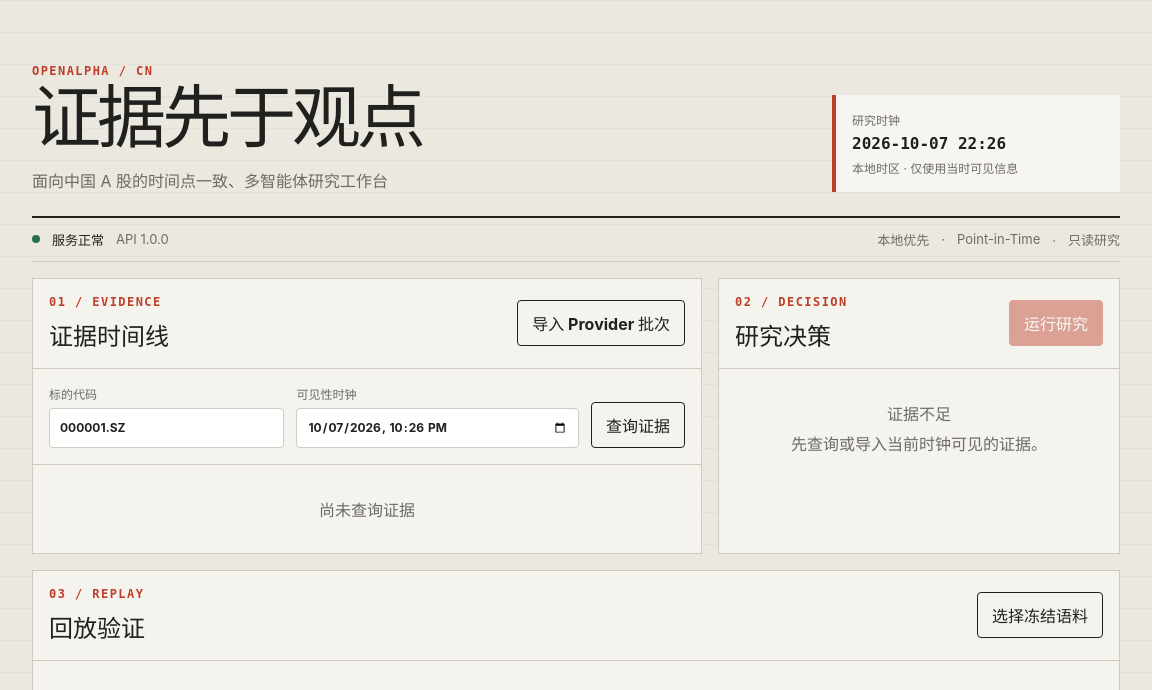
Test case: OpenAlpha workbench › marks the evidence list stale once the query form no longer matches it
Expected: the text "服务正常" is shown, [52,230,104,249]
Click the button "查询证据" at (638, 425), box [591,402,685,448]
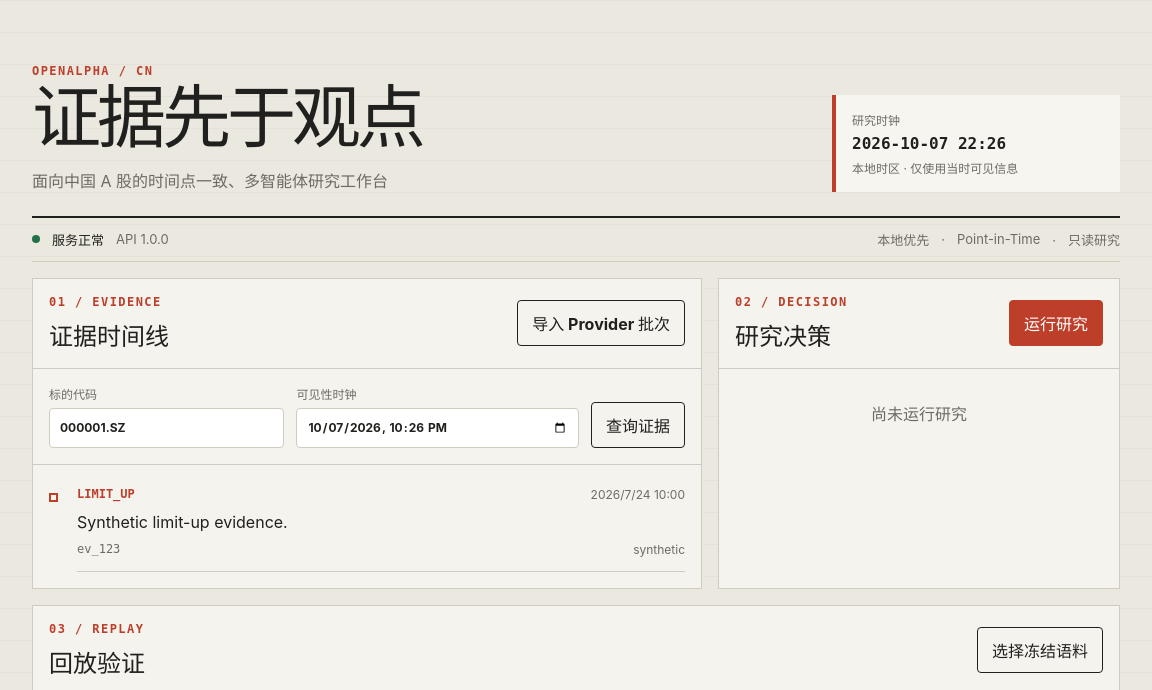
Expected: the text "Synthetic limit-up evidence." is shown, [77,512,288,532]
Type "600519.SH" into the field with placeholder "000001.SZ" at (167, 428), box [49,408,284,448]
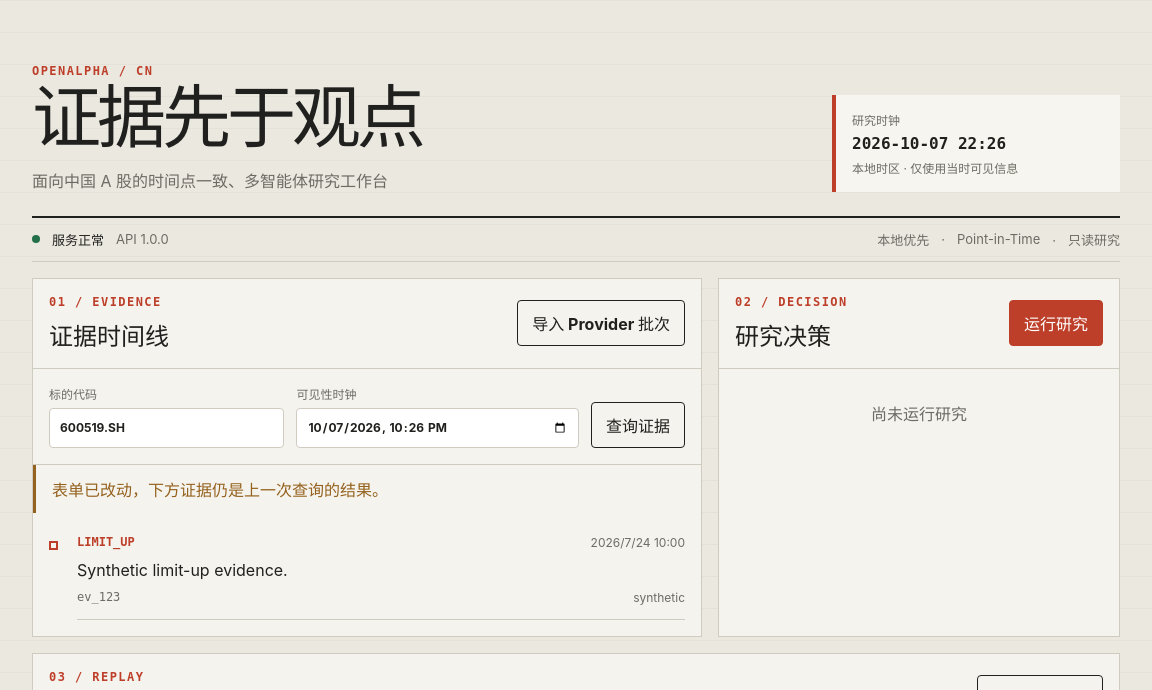
Expected: the text "Synthetic limit-up evidence." is shown, [77,560,288,580]
Expected: the message shows "表单已改动", [52,480,388,500]
